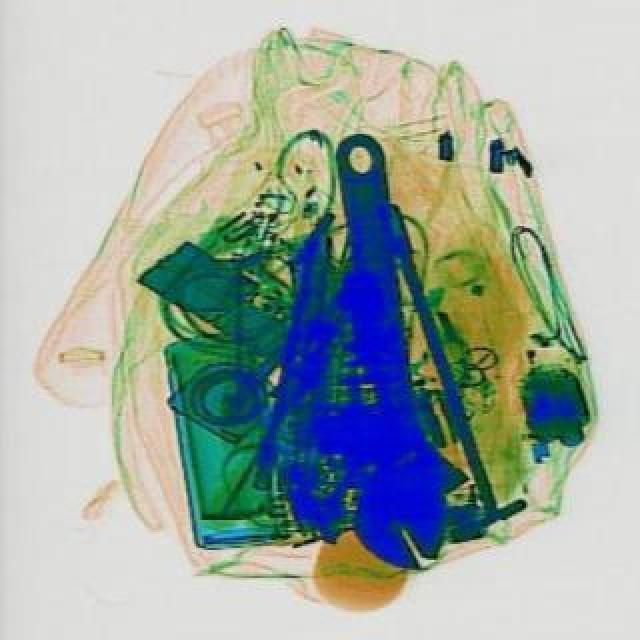scissors: (296, 126, 476, 570)
